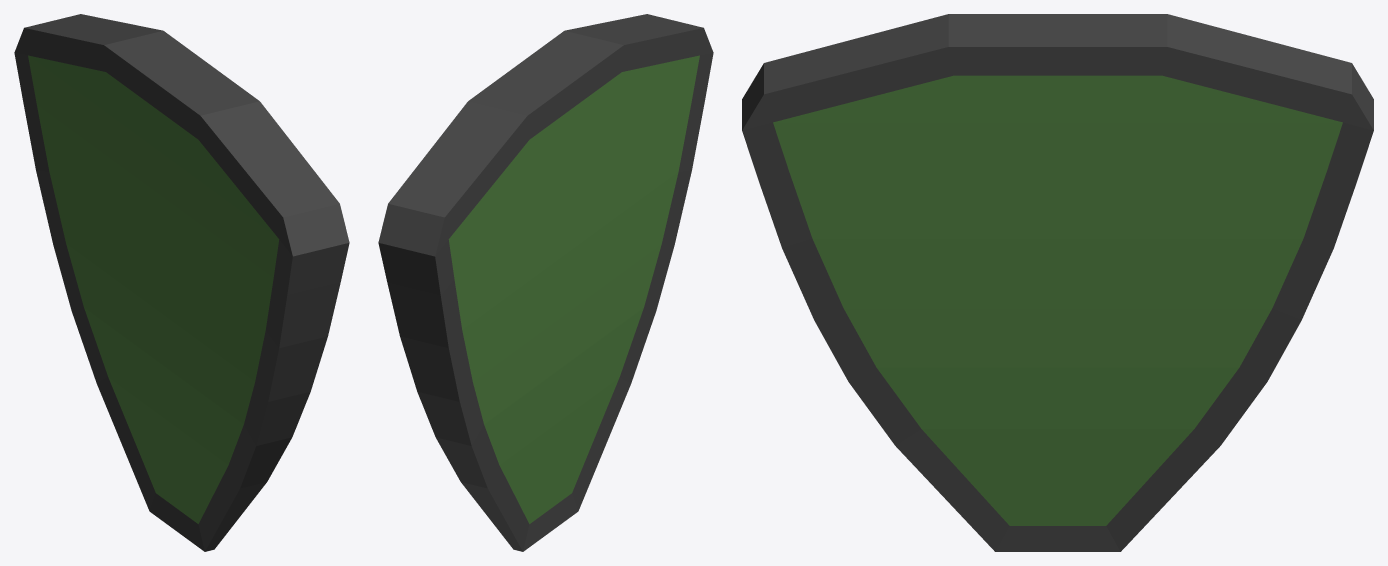
The model's file is newSh.fbx.
3 renders of one model, left to right at view 1: azimuth 30°, elevation 25°; view 2: azimuth 150°, elevation 25°; view 3: azimuth 270°, elevation 25°, orthographic. The views are drawn at different scales.
Visible parts, largest first — view 1: Cube, Cube.001; view 2: Cube, Cube.001; view 3: Cube, Cube.001.
Part boxes in pixels (bbox=[...]): Cube: bbox=[28, 55, 279, 523]; Cube.001: bbox=[14, 14, 349, 551]; Cube: bbox=[448, 55, 699, 523]; Cube.001: bbox=[378, 14, 713, 551]; Cube: bbox=[773, 75, 1342, 525]; Cube.001: bbox=[742, 14, 1373, 551].
Bounding box in the file's own units: 75.1 × 552 × 609.
